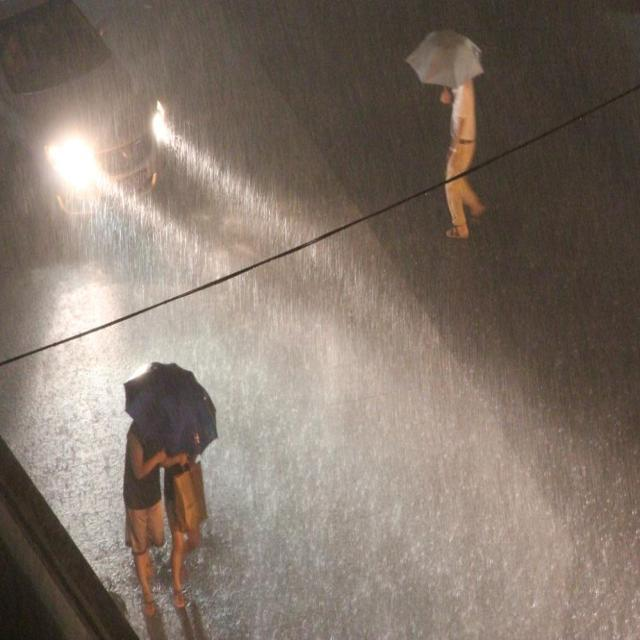car: (0, 3, 170, 225)
